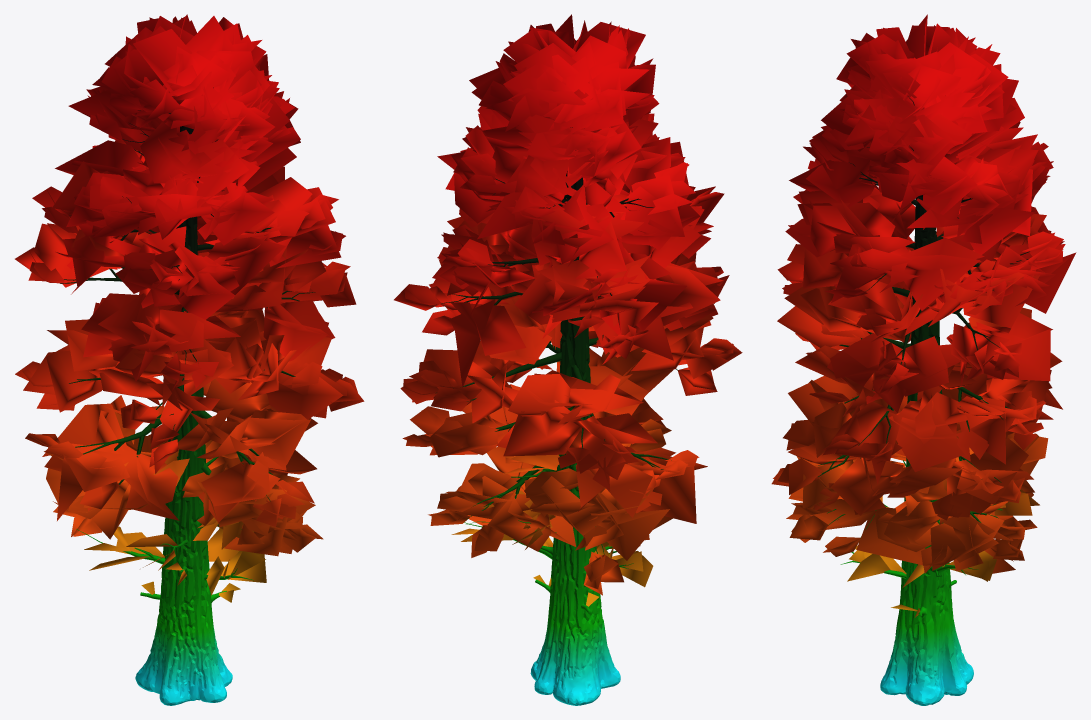
The model's file is Sequoia2.fbx.
3 renders of one model, left to right at view 1: azimuth 30°, elevation 25°; view 2: azimuth 150°, elevation 25°; view 3: azimuth 270°, elevation 25°, orthographic.
Parts seen in each view (by area): view 1: Sequoia2_LOD0; view 2: Sequoia2_LOD0; view 3: Sequoia2_LOD0.
Boxes of the visible parts, x1,y1,x2,y2 form: Sequoia2_LOD0: (15, 14, 364, 705); Sequoia2_LOD0: (394, 14, 742, 705); Sequoia2_LOD0: (771, 14, 1076, 705).
Size of what is drawn, in the model's own units: 1630 by 3615 by 1527.
